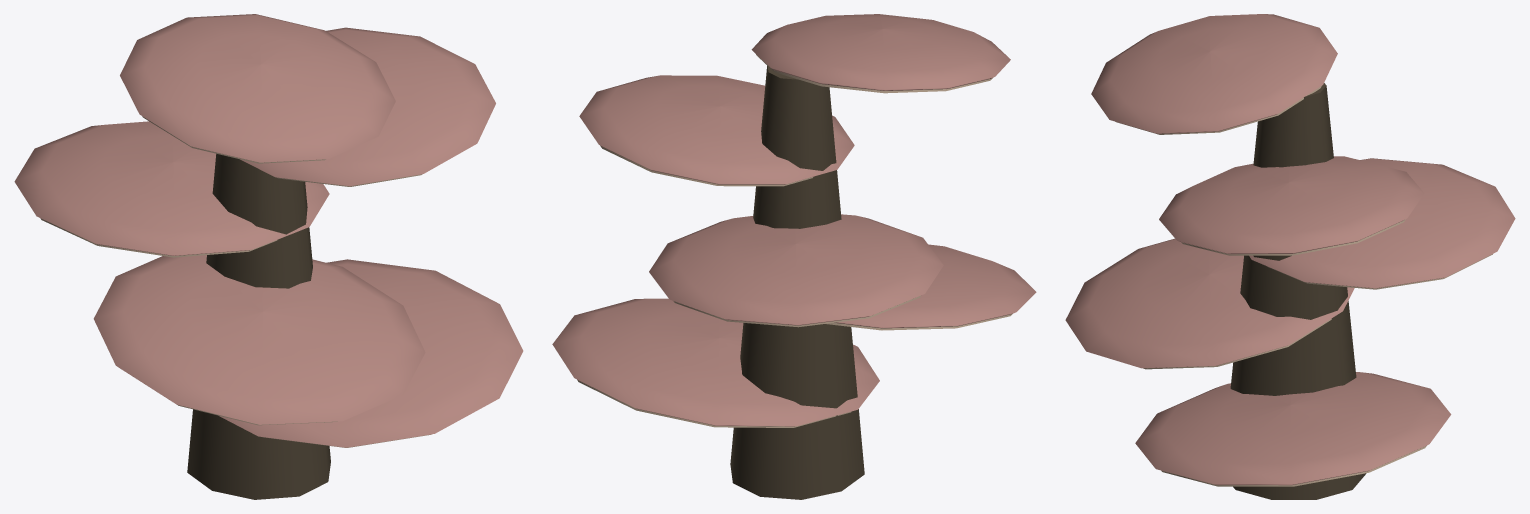
The model's file is shelf-fungus.glb.
3 renders of one model, left to right at view 1: azimuth 30°, elevation 25°; view 2: azimuth 150°, elevation 25°; view 3: azimuth 270°, elevation 25°, orthographic. The views are drawn at different scales.
Visible parts, largest first — view 1: Vesper / shelf-fungus; view 2: Vesper / shelf-fungus; view 3: Vesper / shelf-fungus.
Part boxes in pixels (x1,y1,x2,y2): Vesper / shelf-fungus: [14, 14, 523, 499]; Vesper / shelf-fungus: [552, 14, 1036, 499]; Vesper / shelf-fungus: [1065, 14, 1515, 499].
Bounding box in the file's own units: 1.85 × 1.87 × 1.87.
